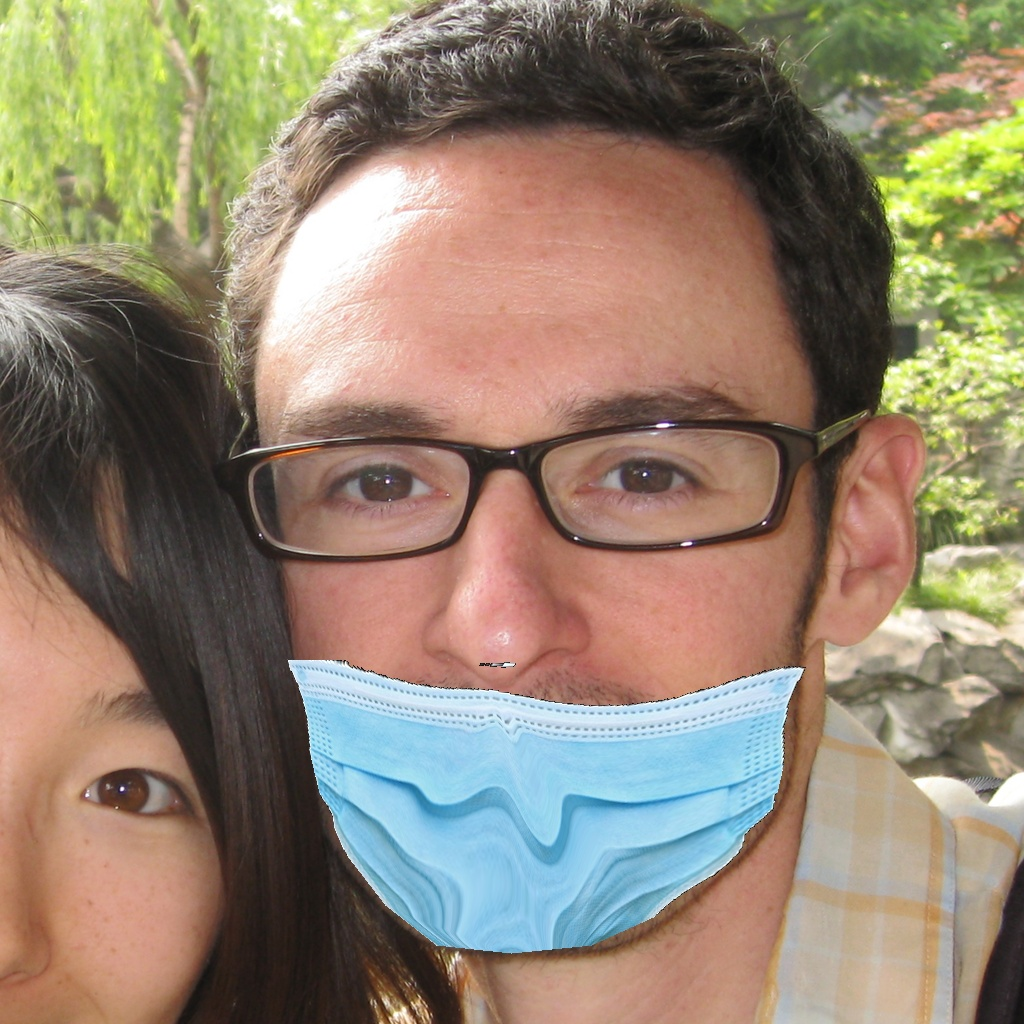mascarilla_mal_puesta: (252, 370, 894, 983)
